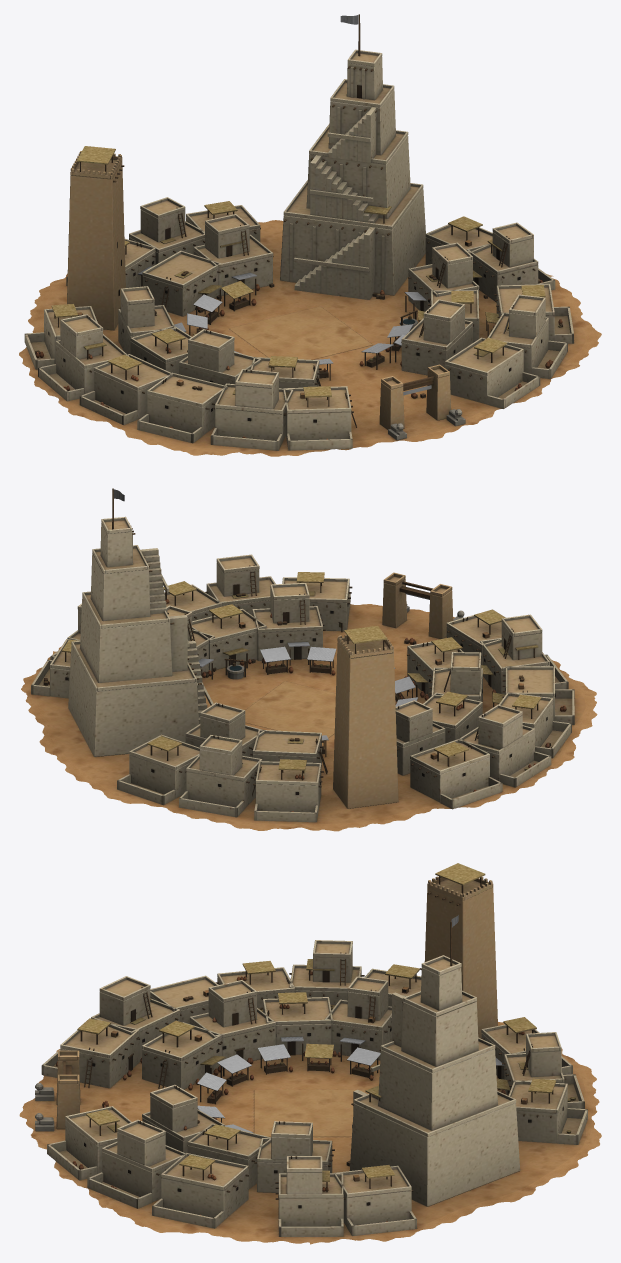
The model's file is bronze-town-big-a-c9adeba2.glb.
3 renders of one model, top to bottom at view 1: azimuth 30°, elevation 25°; view 2: azimuth 150°, elevation 25°; view 3: azimuth 270°, elevation 25°, orthographic. The views are drawn at different scales.
Parts seen in each view (by area): view 1: LOD0; view 2: LOD0; view 3: LOD0.
Part boxes in pixels (left/top/right/bottom): LOD0: left=19, top=14, right=601, bottom=456; LOD0: left=21, top=488, right=597, bottom=831; LOD0: left=19, top=863, right=601, bottom=1244.
Size of what is drawn, in the model's own units: 7.93 by 3.6 by 7.49.
Materials: 3 (3 with a texture image).
